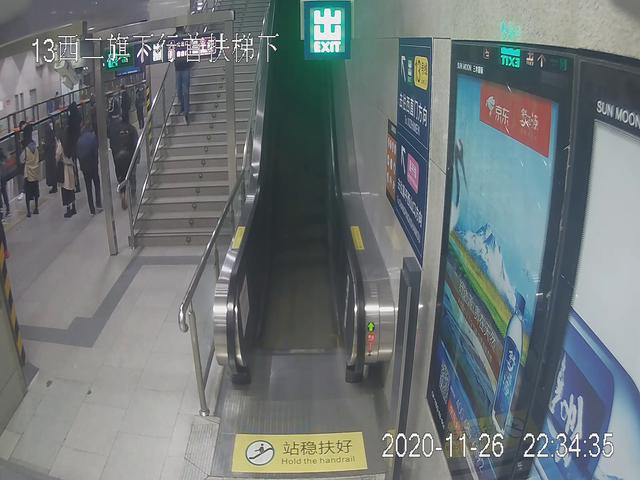person: (109, 109, 142, 214), (77, 122, 108, 222), (51, 130, 79, 221), (16, 135, 42, 219), (172, 25, 193, 125)
